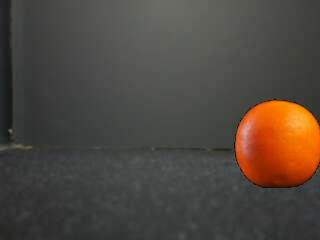Orange: (235, 99, 320, 191)
